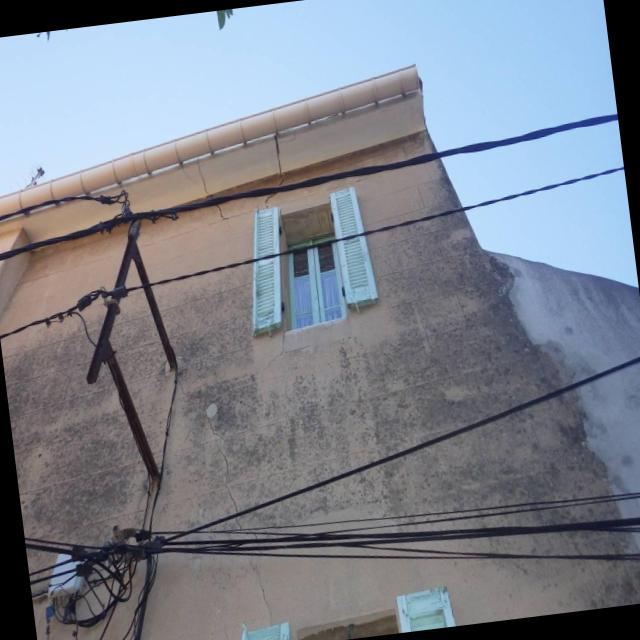crack: (173, 373, 226, 440), (247, 557, 275, 623), (213, 443, 240, 510)
